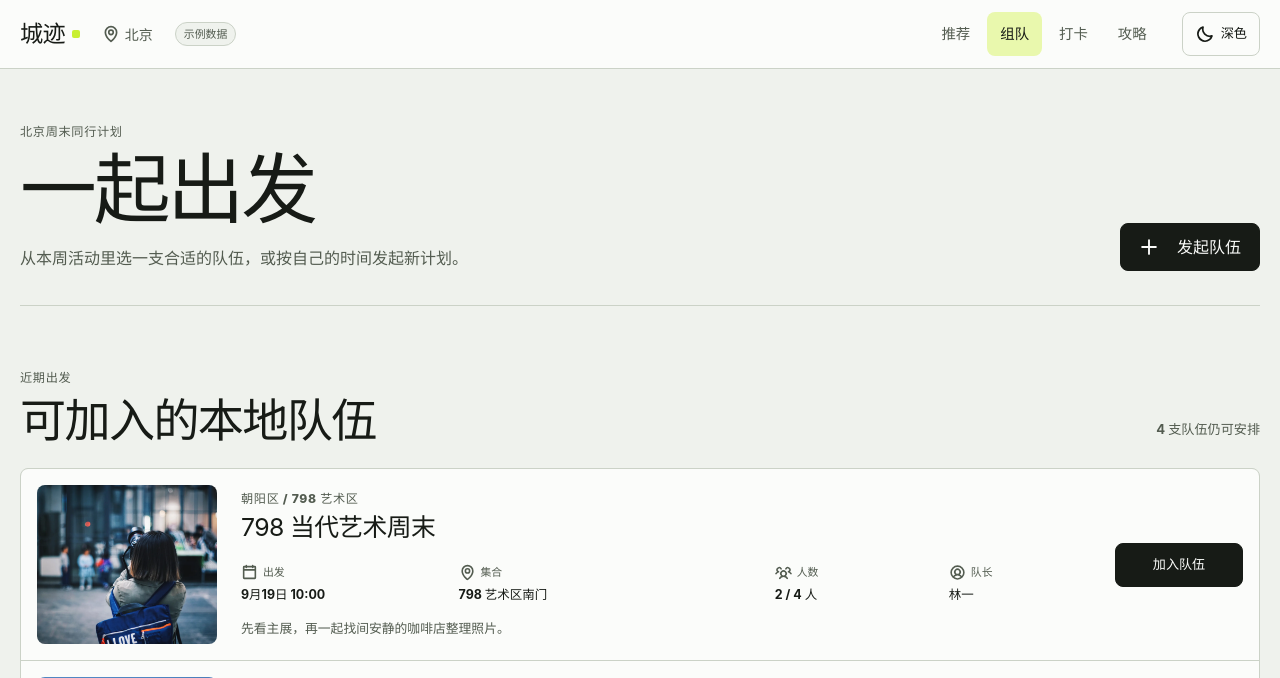
Test: renders fixture details and joins and leaves an available team
Expected: the picture named "798 艺术空间内参观展览的年轻人" is shown, [37,485,217,644]
Expected: the text "9月19日 10:00" is shown, [241,587,325,602]
Click the 1st button "加入队伍": (1179, 565) [1115,543,1243,587]
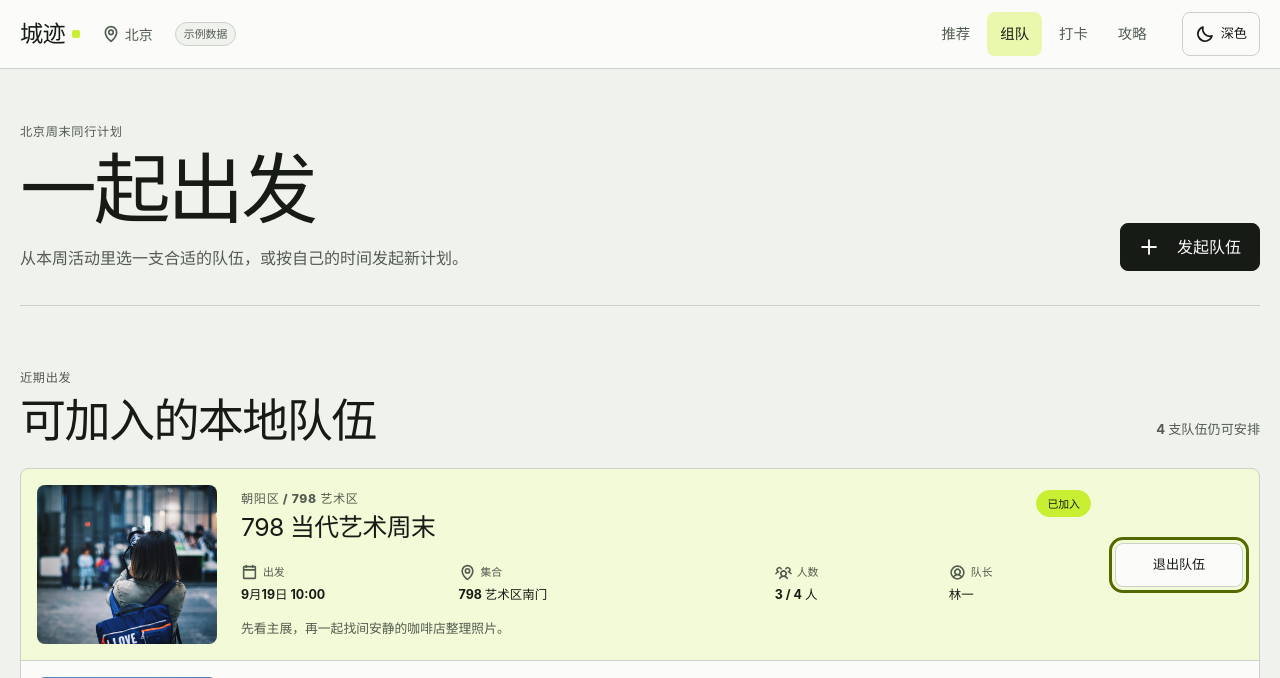
Result: the text "已加入" is shown at [1036,490,1091,517]
Result: the text "3 / 4 人" is shown at [775,587,818,602]
Click the button "退出队伍": (1179, 565) [1115,543,1243,587]
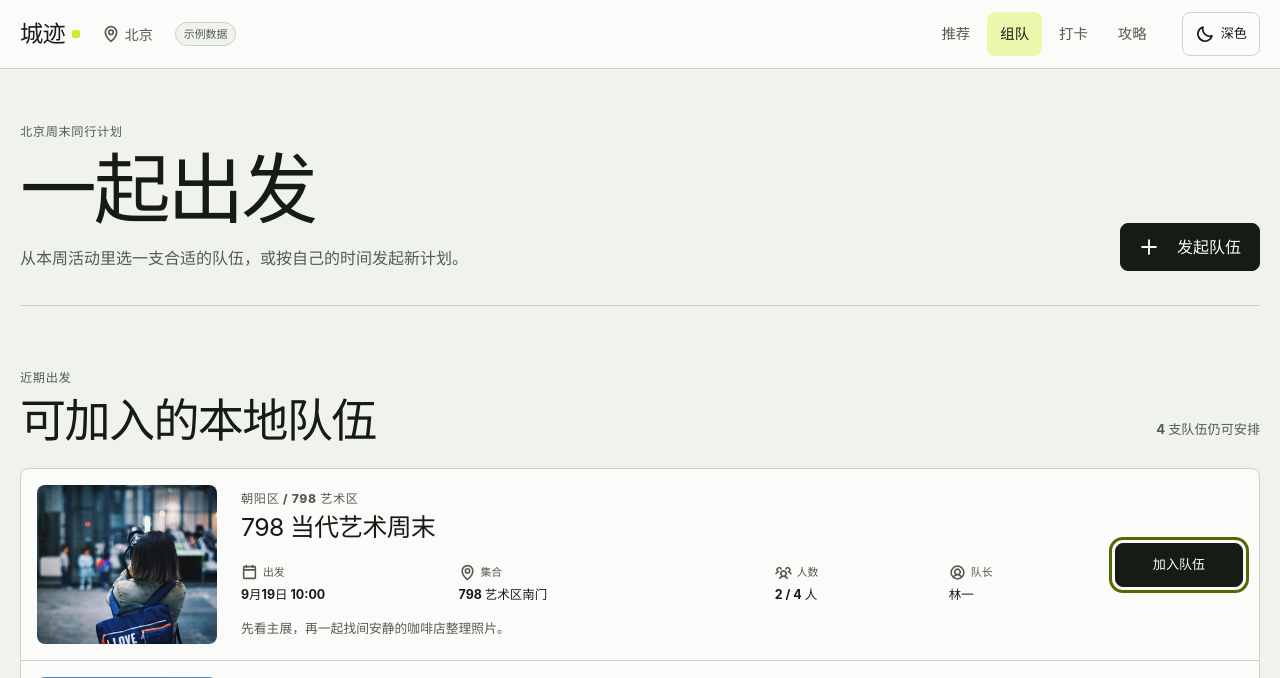
Result: the 1st button "加入队伍" is shown at [1115,543,1243,587]
Result: the text "2 / 4 人" is shown at [775,587,817,602]
